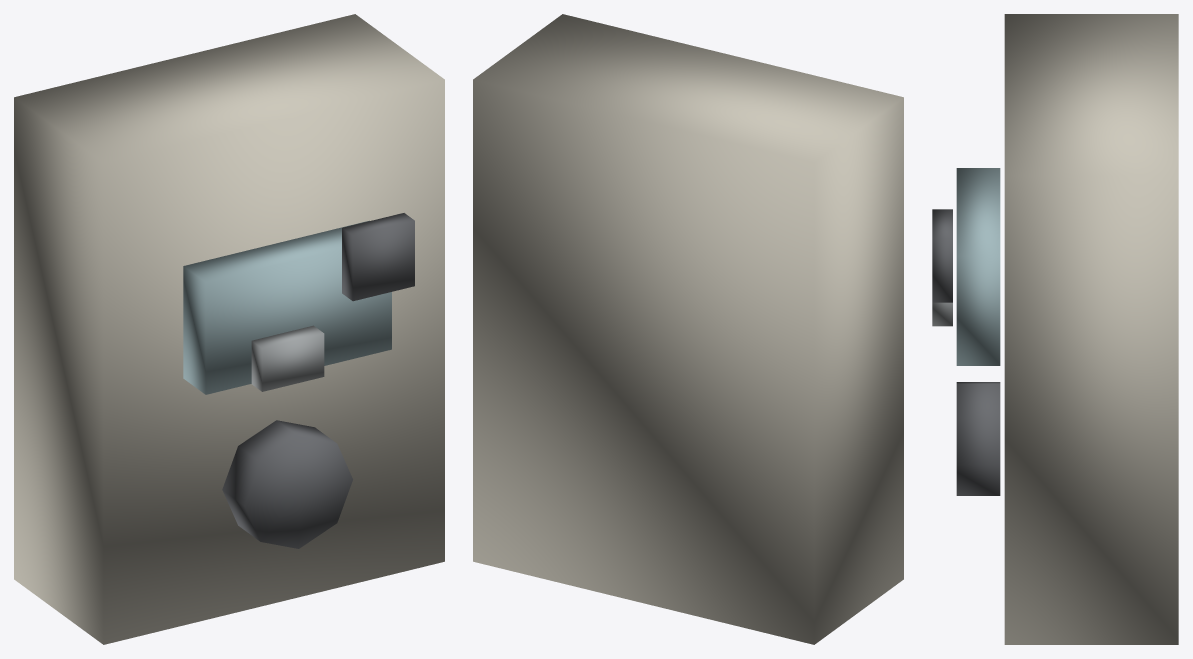
The model's file is wall_thermostat__weathered.glb.
3 views of the same model, side by side, from view 1: azimuth 30°, elevation 25°; view 2: azimuth 150°, elevation 25°; view 3: azimuth 270°, elevation 25° (orthographic). The views are drawn at different scales.
Visible parts, largest first — view 1: world; view 2: world; view 3: world.
Boxes of the visible parts, x1,y1,x2,y2 form: world: (14, 14, 444, 644); world: (473, 14, 903, 644); world: (932, 14, 1178, 644).
Bounding box in the file's own units: 0.22 × 0.297 × 0.1415.
